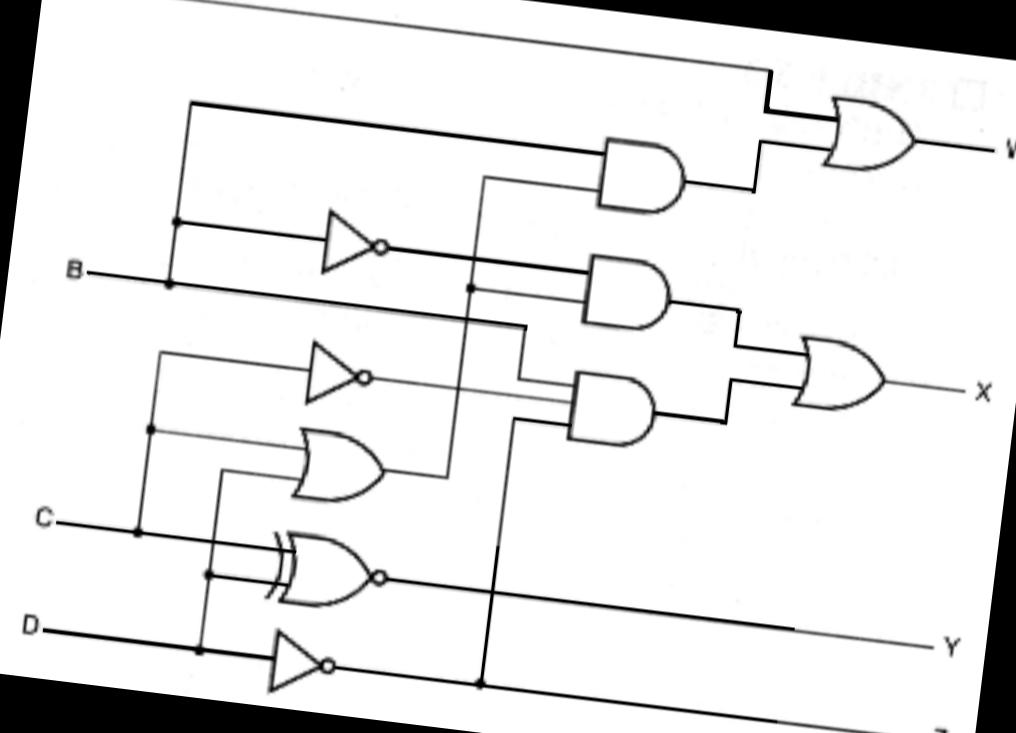and: (571, 243, 685, 343), (585, 128, 698, 227)
not: (294, 330, 386, 420), (257, 620, 350, 707), (312, 200, 400, 286)
or: (813, 87, 933, 187), (282, 416, 398, 518), (784, 326, 900, 424)
xnor: (256, 519, 401, 623)
